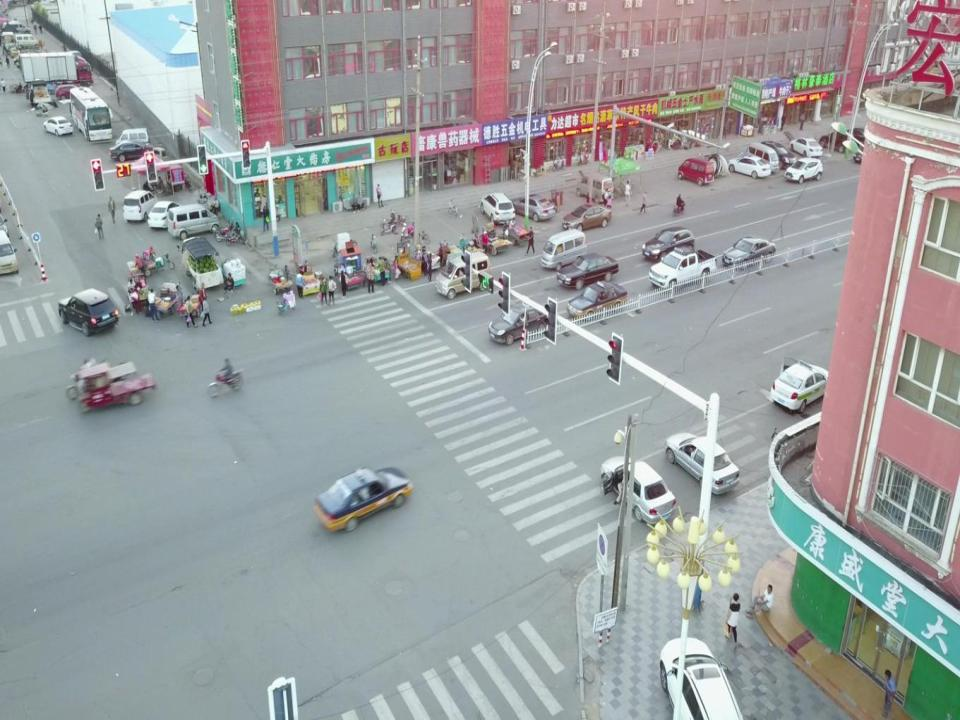bus: (68, 86, 113, 142)
car: (658, 635, 744, 720), (312, 465, 414, 535), (599, 454, 677, 526), (664, 430, 741, 496), (769, 355, 837, 416), (58, 287, 120, 337), (487, 301, 551, 347), (565, 279, 628, 320), (556, 252, 619, 291), (642, 226, 696, 265), (721, 235, 776, 271), (562, 202, 611, 232), (510, 193, 556, 222), (122, 189, 160, 223), (147, 200, 188, 230), (479, 192, 516, 225), (727, 154, 772, 180), (784, 156, 824, 184), (759, 140, 795, 170), (108, 140, 155, 162), (820, 129, 852, 153), (790, 137, 823, 158), (841, 127, 872, 149), (42, 115, 74, 136), (852, 146, 881, 164), (55, 84, 83, 99)
truck: (648, 244, 718, 292), (18, 51, 94, 89), (132, 147, 170, 174)
van: (435, 252, 492, 300), (539, 228, 588, 272), (168, 202, 220, 241), (576, 172, 614, 205), (745, 142, 779, 176), (678, 158, 715, 187), (114, 126, 150, 152), (0, 228, 18, 276), (14, 33, 40, 50), (3, 21, 30, 35)
